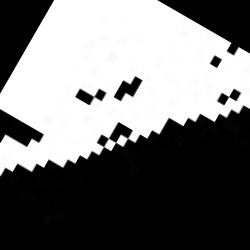spot: (1, 2, 249, 175)
